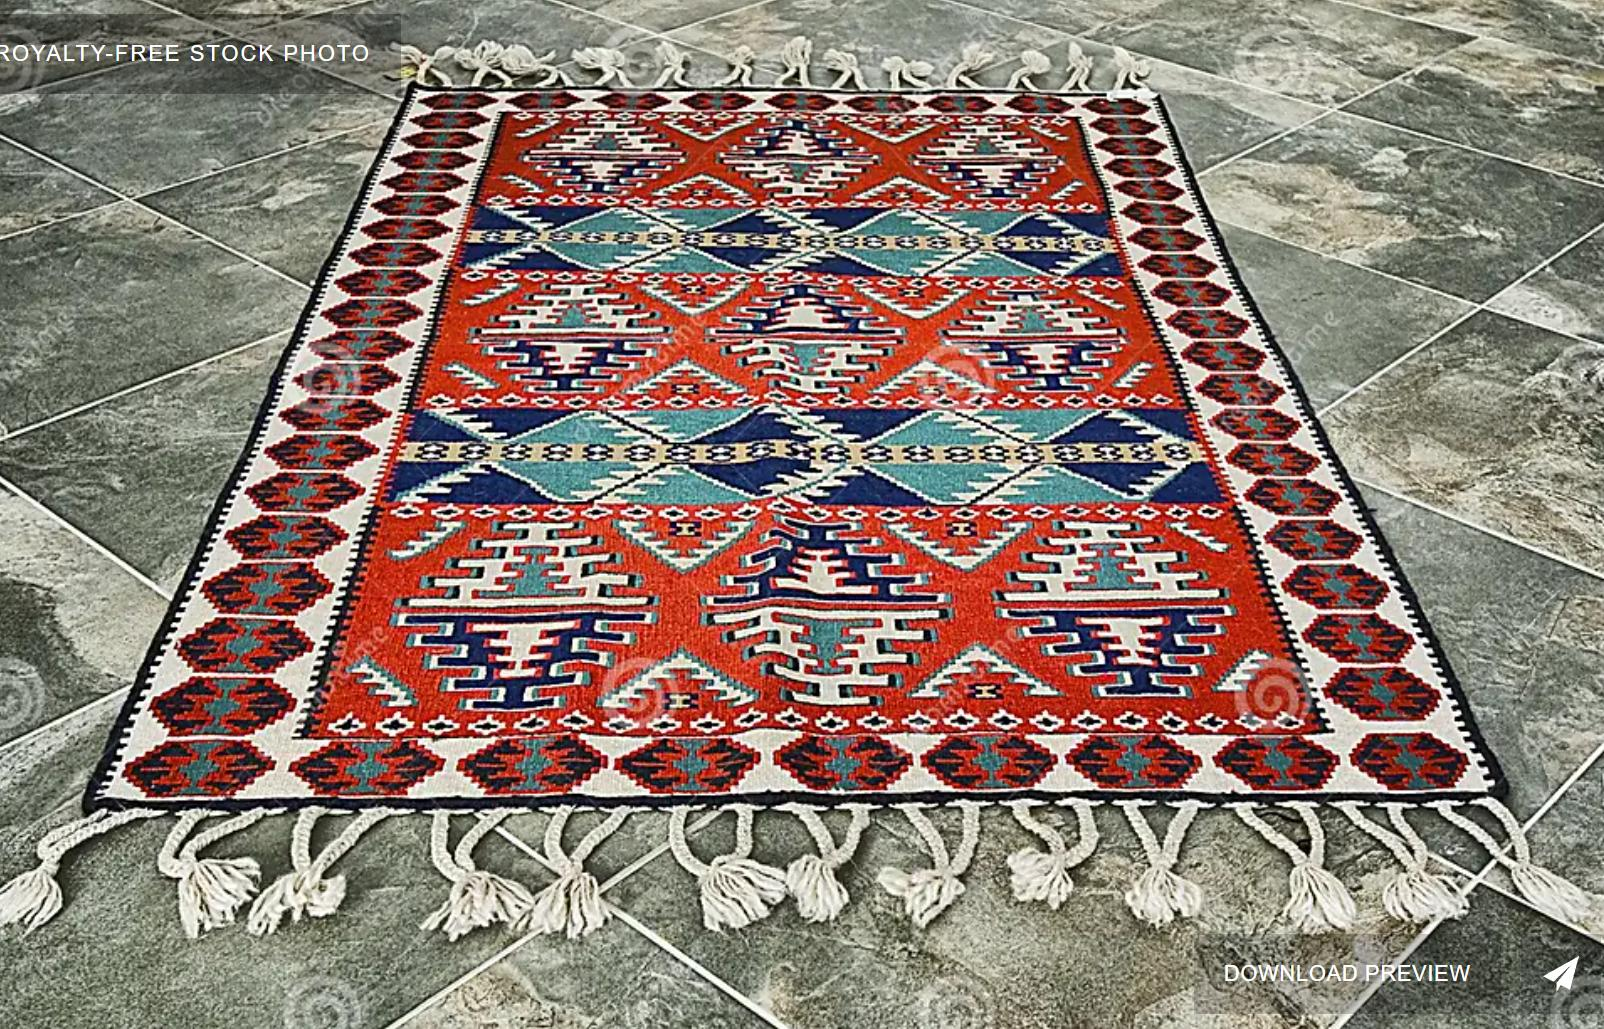carpet: (0, 37, 1604, 942)
